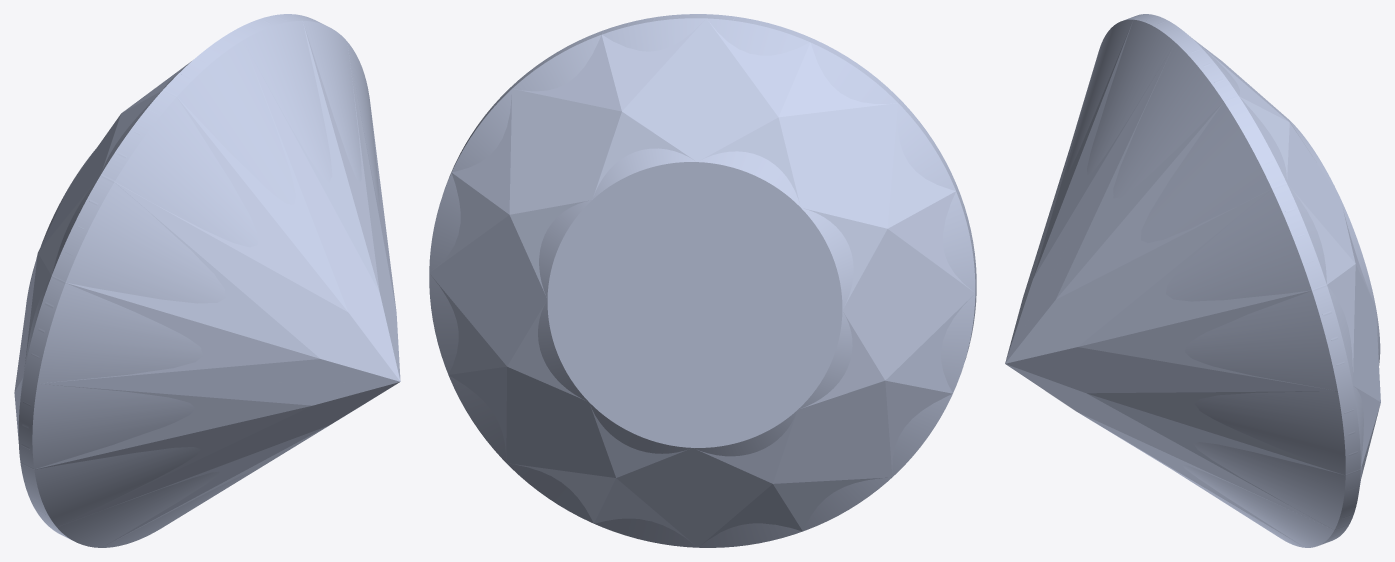
3 renders of one model, left to right at view 1: azimuth 30°, elevation 25°; view 2: azimuth 150°, elevation 25°; view 3: azimuth 270°, elevation 25°, orthographic. The views are drawn at different scales.
Visible parts, largest first — view 1: nodes[1], nodes[6]; view 2: nodes[6], nodes[1]; view 3: nodes[1], nodes[6].
Boxes of the visible parts, x1,y1,x2,y2 form: nodes[1]: [18, 14, 379, 547]; nodes[6]: [14, 14, 400, 547]; nodes[6]: [429, 15, 975, 547]; nodes[1]: [429, 14, 976, 547]; nodes[1]: [1047, 14, 1380, 547]; nodes[6]: [1005, 14, 1380, 546].
Size of the model in its own units: 0.0158 by 0.0169 by 0.0115.
